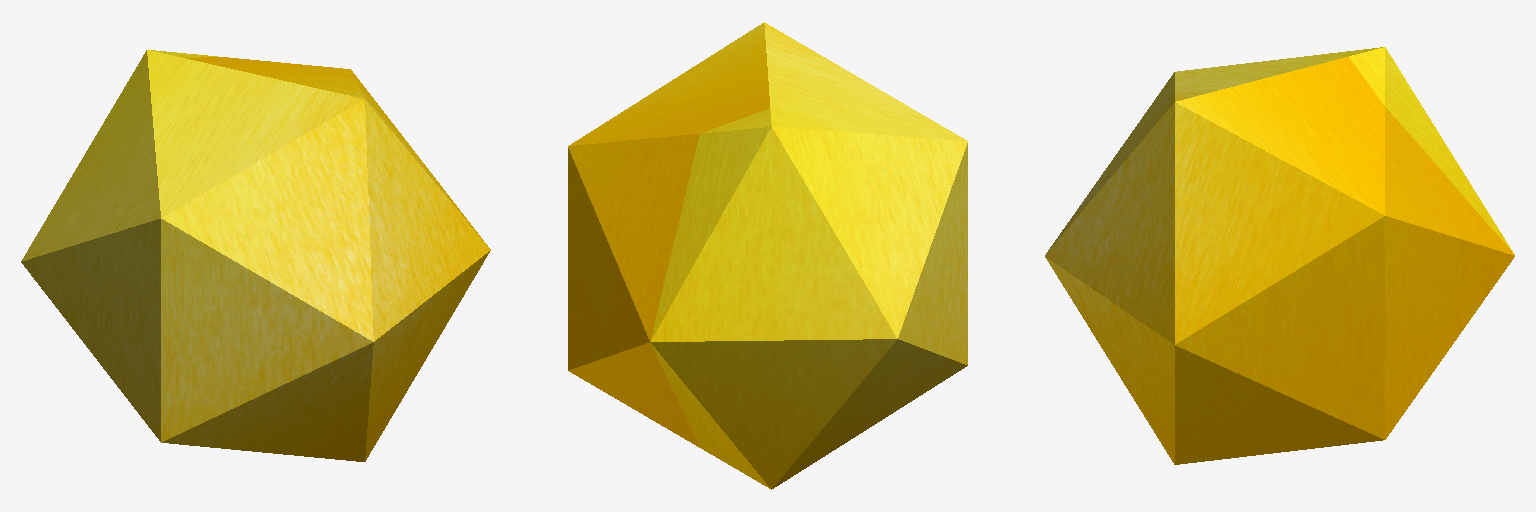
The picture shows the model from 3 angles: view 1: azimuth 30°, elevation 25°; view 2: azimuth 150°, elevation 25°; view 3: azimuth 270°, elevation 25°; orthographic projection.
Parts seen in each view (by area): view 1: polySurface1 pPlatonic2; view 2: polySurface1 pPlatonic2; view 3: polySurface1 pPlatonic2.
Boxes of the visible parts, x1,y1,x2,y2 form: polySurface1 pPlatonic2: [21, 50, 490, 461]; polySurface1 pPlatonic2: [568, 22, 967, 489]; polySurface1 pPlatonic2: [1045, 47, 1514, 464].
Size of the model in its own units: 35.78 by 34.03 by 40.
Materials: 1 (1 with a texture image).